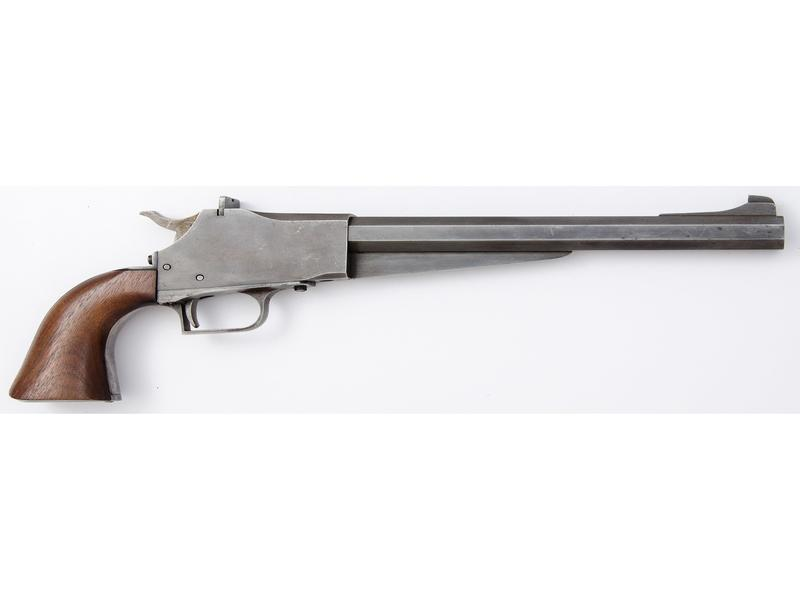GUN: (2, 180, 787, 413)
